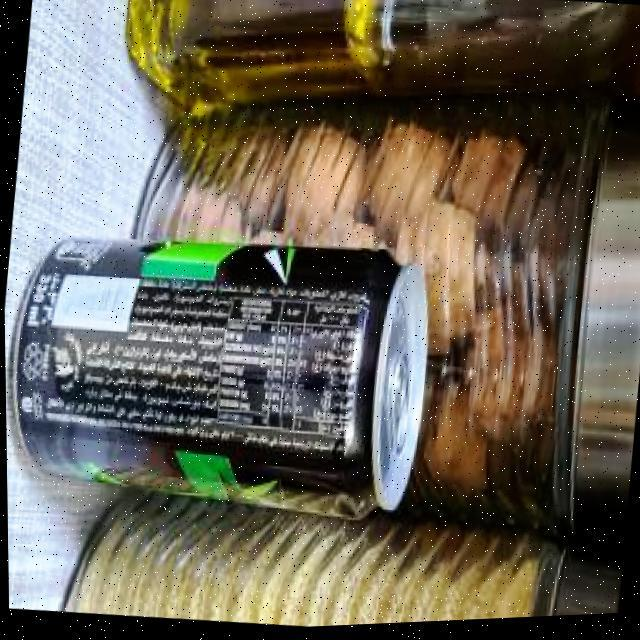Lata: (11, 239, 430, 516)
